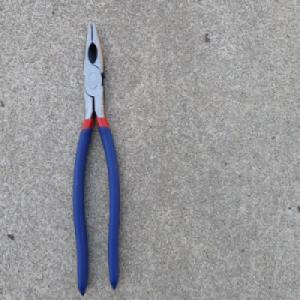Pliers: (70, 19, 121, 298)
